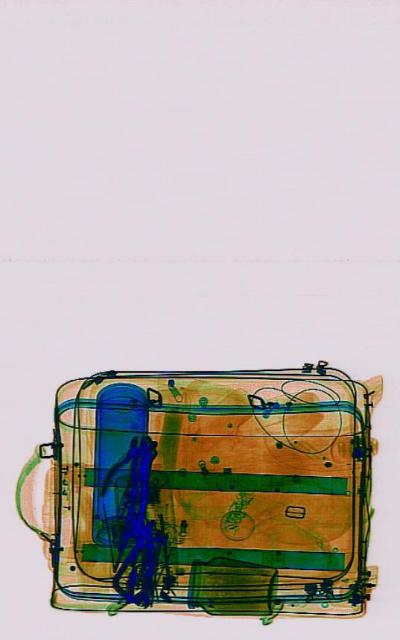Pliers: (94, 426, 155, 526)
